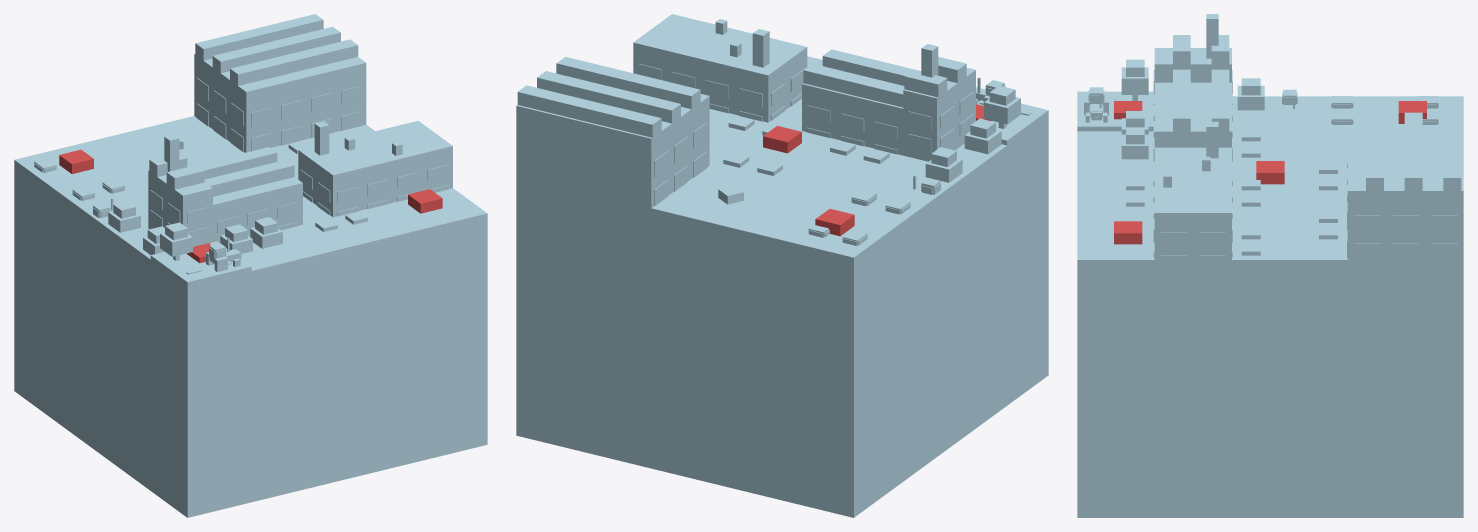
Rendered from block_13_sewersystem_100.glb.
3 renders of one model, left to right at view 1: azimuth 30°, elevation 25°; view 2: azimuth 150°, elevation 25°; view 3: azimuth 270°, elevation 25°, orthographic. The views are drawn at different scales.
Visible parts, largest first — view 1: Patch_LowerLeft_b13_SL, Factories_LowerLeft_b13_SL, Roads_LowerLeft_b13_SL, SL_Net_13, Asset_Tree_Round.111_SL, Ground_LowerLeft_b13_SL, Asset_Tree_Round.093_SL, Asset_Tree_Round.113_SL, Asset_Tractor.006_SL, Asset_Tree_Round.112_SL; view 2: Patch_LowerLeft_b13_SL, Factories_LowerLeft_b13_SL, SL_Net_13, Parking_LowerLeft_b13_SL, Asset_Tree_Round.111_SL, Ground_LowerLeft_b13_SL, Asset_Tree_Round.105_SL, Asset_Tree_Round.093_SL; view 3: Patch_LowerLeft_b13_SL, Factories_LowerLeft_b13_SL, SL_Net_13, Roads_LowerLeft_b13_SL, Ground_LowerLeft_b13_SL, Asset_Tree_Round.111_SL, Asset_Tree_Round.093_SL, Asset_Tree_Round.113_SL, Asset_Tractor.006_SL, Asset_Tree_Round.112_SL.
Part boxes in pixels (box(x1,y1,x2,y2)): Patch_LowerLeft_b13_SL: box(14, 116, 487, 517); Factories_LowerLeft_b13_SL: box(148, 14, 452, 246); Roads_LowerLeft_b13_SL: box(83, 223, 486, 289); SL_Net_13: box(59, 149, 442, 263); Asset_Tree_Round.111_SL: box(160, 222, 192, 260); Ground_LowerLeft_b13_SL: box(101, 236, 227, 276); Asset_Tree_Round.093_SL: box(108, 201, 140, 232); Asset_Tree_Round.113_SL: box(250, 217, 282, 248); Asset_Tractor.006_SL: box(206, 238, 241, 271); Asset_Tree_Round.112_SL: box(220, 224, 252, 253); Patch_LowerLeft_b13_SL: box(516, 56, 1048, 517); Factories_LowerLeft_b13_SL: box(516, 14, 975, 248); SL_Net_13: box(763, 104, 991, 236); Parking_LowerLeft_b13_SL: box(718, 215, 931, 278); Asset_Tree_Round.111_SL: box(984, 85, 1020, 128); Ground_LowerLeft_b13_SL: box(651, 120, 1029, 261); Asset_Tree_Round.105_SL: box(964, 118, 1001, 154); Asset_Tree_Round.093_SL: box(925, 147, 962, 182); Patch_LowerLeft_b13_SL: box(1077, 96, 1463, 517); Factories_LowerLeft_b13_SL: box(1153, 14, 1463, 300); SL_Net_13: box(1114, 101, 1426, 244); Roads_LowerLeft_b13_SL: box(1077, 91, 1308, 315); Ground_LowerLeft_b13_SL: box(1116, 91, 1347, 315); Asset_Tree_Round.111_SL: box(1121, 59, 1148, 100); Asset_Tree_Round.093_SL: box(1237, 78, 1264, 110); Asset_Tree_Round.113_SL: box(1121, 127, 1148, 159); Asset_Tractor.006_SL: box(1084, 87, 1108, 122); Asset_Tree_Round.112_SL: box(1121, 111, 1148, 134).
Size of the model in its own units: 9.52 by 9.83 by 9.5.
